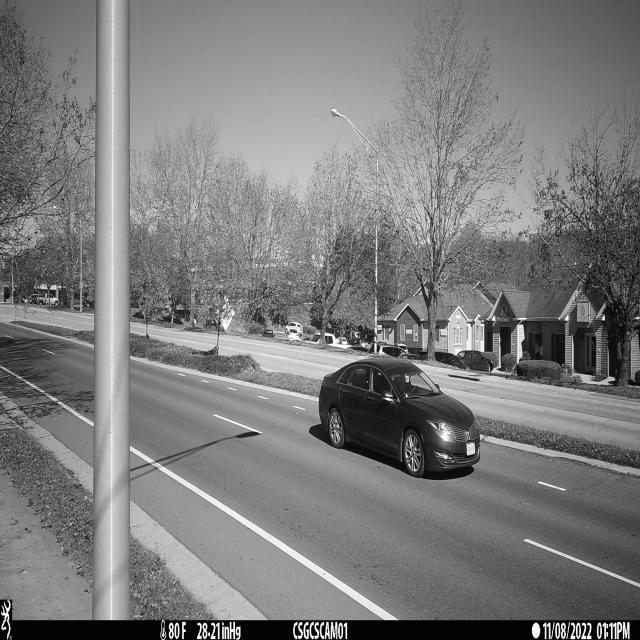Sedan: (319, 359, 483, 478)
